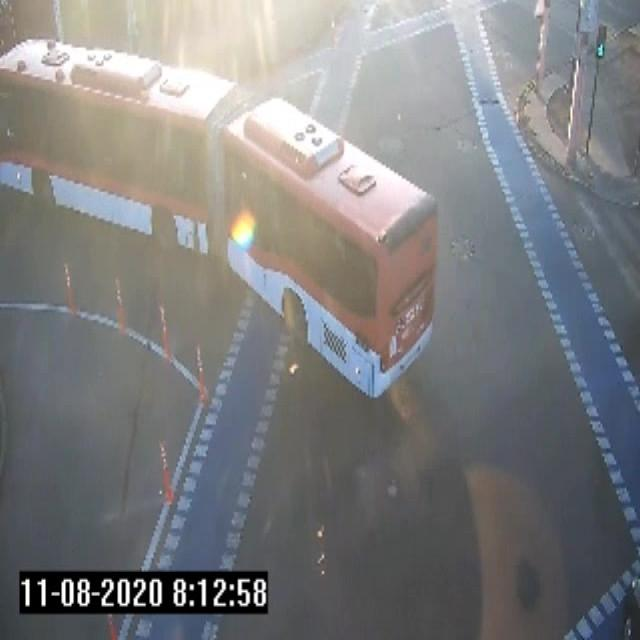AB: (1, 26, 442, 398)
